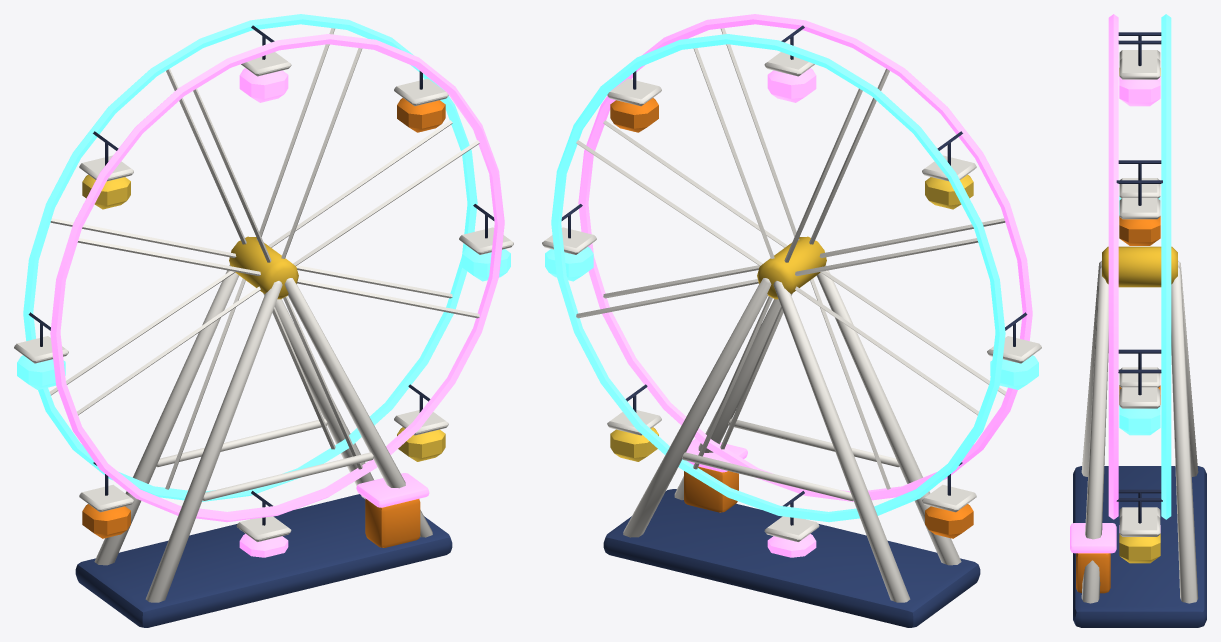
The model's file is W1_FerrisWheel.fbx.
3 renders of one model, left to right at view 1: azimuth 30°, elevation 25°; view 2: azimuth 150°, elevation 25°; view 3: azimuth 270°, elevation 25°, orthographic. The views are drawn at different scales.
Visible parts, largest first — view 1: Wheel, Static, Gondola_5, Gondola_1, Gondola_2, Gondola_4, Gondola_7, Gondola_0, Gondola_6, Gondola_3; view 2: Static, Wheel, Gondola_5, Gondola_1, Gondola_2, Gondola_4, Gondola_7, Gondola_0, Gondola_6, Gondola_3; view 3: Static, Wheel, Gondola_7, Gondola_0, Gondola_2, Gondola_1, Gondola_5, Gondola_4, Gondola_6, Gondola_3.
Part boxes in pixels (<box>): Wheel: <box>23,14,504,522</box>; Static: <box>75,265,452,627</box>; Gondola_5: <box>79,474,133,538</box>; Gondola_1: <box>394,71,448,132</box>; Gondola_2: <box>239,36,291,102</box>; Gondola_4: <box>14,323,68,389</box>; Gondola_7: <box>394,395,448,461</box>; Gondola_0: <box>459,215,513,281</box>; Gondola_6: <box>236,502,291,557</box>; Gondola_3: <box>79,142,133,209</box>; Static: <box>603,265,980,627</box>; Wheel: <box>551,14,1032,522</box>; Gondola_5: <box>922,474,976,538</box>; Gondola_1: <box>607,71,661,132</box>; Gondola_2: <box>764,36,816,102</box>; Gondola_4: <box>987,323,1041,389</box>; Gondola_7: <box>607,395,661,461</box>; Gondola_0: <box>542,215,596,281</box>; Gondola_6: <box>764,502,819,557</box>; Gondola_3: <box>922,142,976,209</box>; Static: <box>1070,261,1206,627</box>; Wheel: <box>1102,14,1177,519</box>; Gondola_7: <box>1119,501,1160,563</box>; Gondola_0: <box>1119,373,1160,435</box>; Gondola_2: <box>1119,43,1160,106</box>; Gondola_1: <box>1119,183,1160,245</box>; Gondola_5: <box>1119,353,1160,404</box>; Gondola_4: <box>1119,163,1160,215</box>; Gondola_6: <box>1119,492,1160,532</box>; Gondola_3: <box>1119,35,1160,75</box>.
Size of the model in its own units: 18.42 by 19.68 by 4.7.
